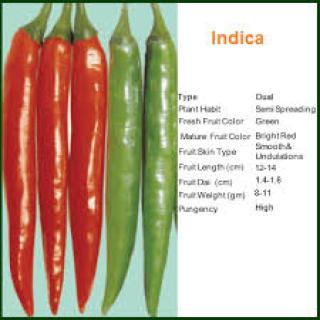Cabai Hijau: (106, 20, 143, 309), (144, 23, 180, 318)
Cabai Merah: (5, 29, 42, 315), (37, 37, 74, 317), (72, 39, 107, 309)
